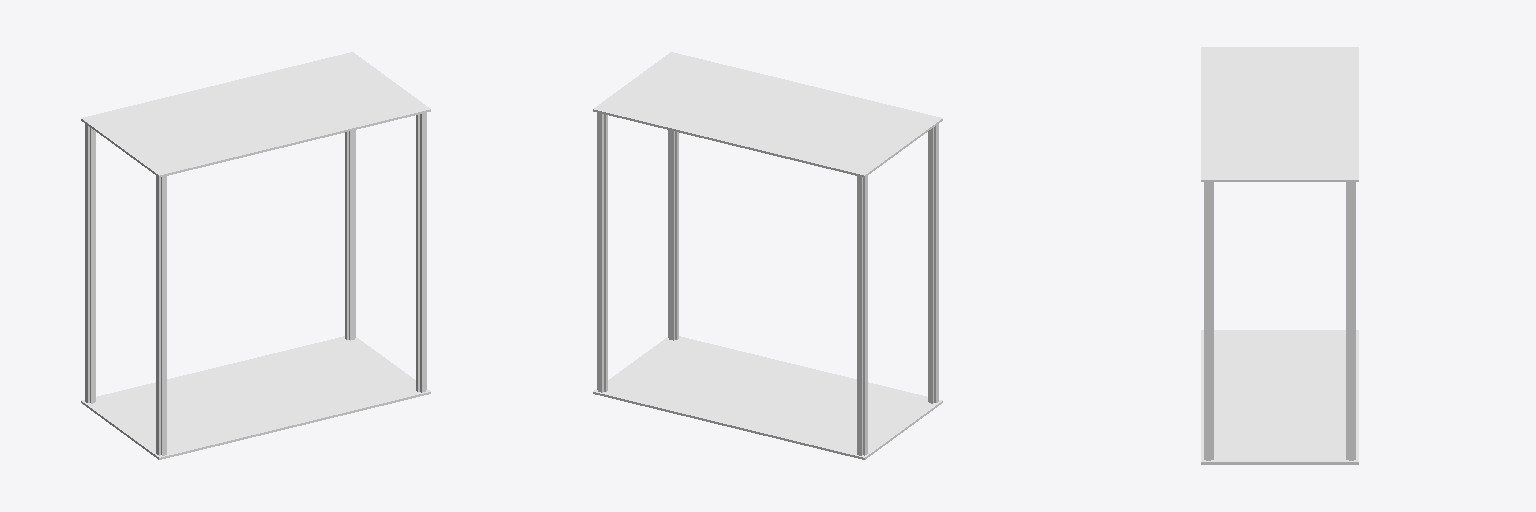
File: box_rack.obj
The picture shows the model from 3 angles: view 1: azimuth 30°, elevation 25°; view 2: azimuth 150°, elevation 25°; view 3: azimuth 270°, elevation 25°; orthographic projection.
Parts seen in each view (by area): view 1: object 1; view 2: object 1; view 3: object 1.
Part boxes in pixels (x1,y1,x2,y2): object 1: (81, 52, 430, 459); object 1: (593, 52, 942, 459); object 1: (1201, 47, 1358, 464).
Bounding box in the file's own units: 12.8 × 12.8 × 6.4.